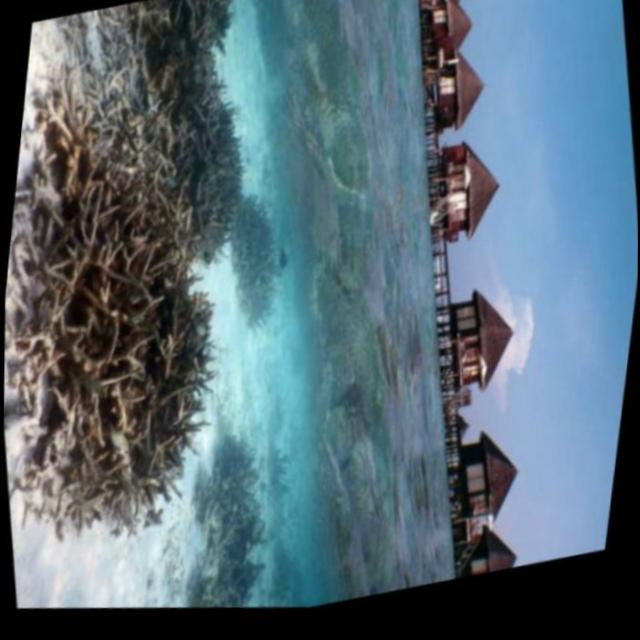Dead Coral: (0, 25, 288, 576)
